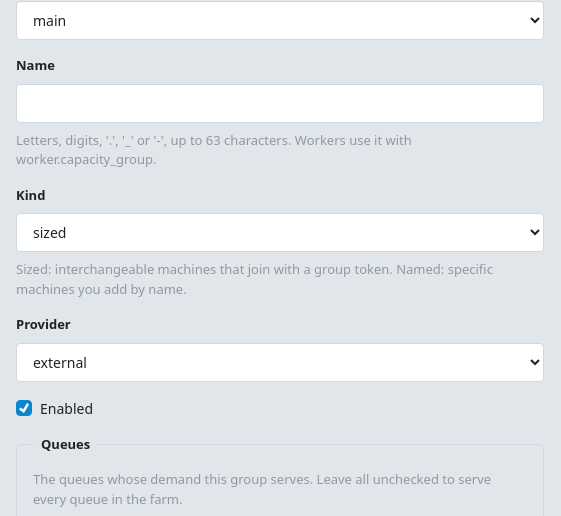
Test case: CapacityGroupForm (create) › disables submit until the name, max machines and (sized) cpu count are valid
Type "spot" into the field labelled "Name" at (280, 103), box [16,84,544,122]
(page scrolled)
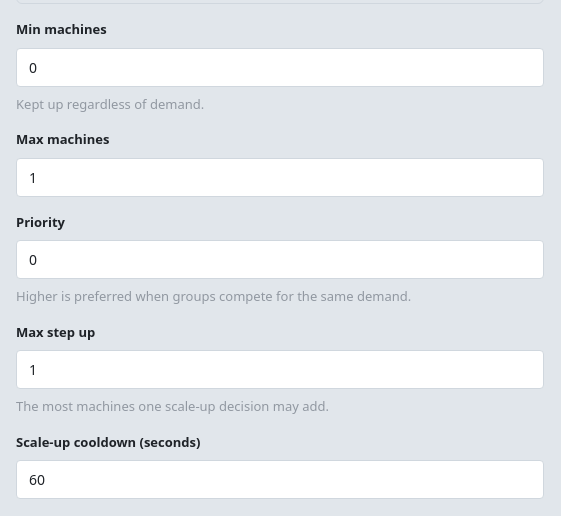
Replace the text in the number field labelled "Max machines" with "4" at (280, 177), box [16,158,544,196]
(page scrolled)
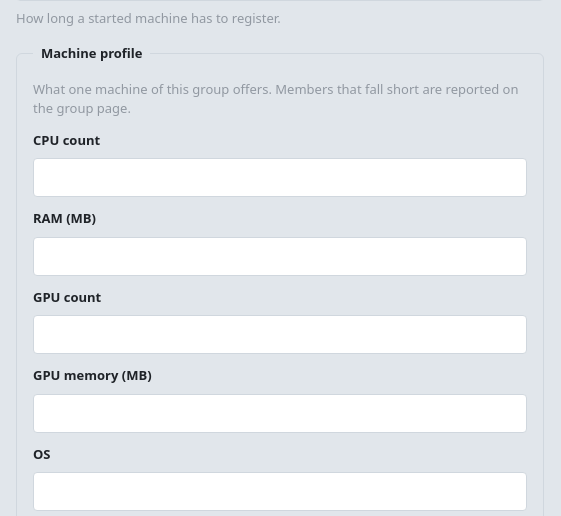
Type "8" into the number field labelled "CPU count" at (280, 178), box [33,158,527,197]
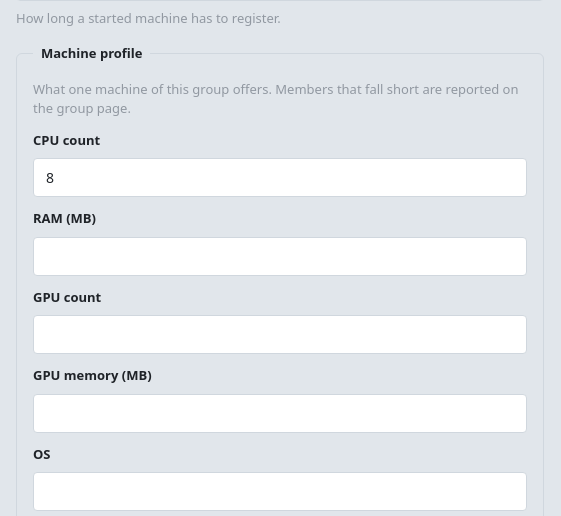
Replace the text in the number field labelled "CPU count" with "0" at (280, 178), box [33,158,527,197]
(page scrolled)
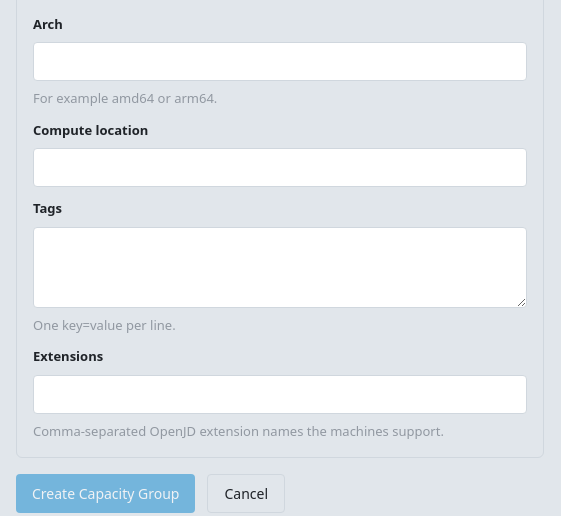
Now the button "Create Capacity Group" is disabled, box [16,474,196,513]
